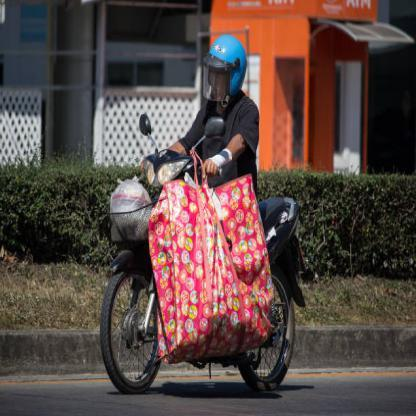Motorcycle: (98, 121, 304, 396)
